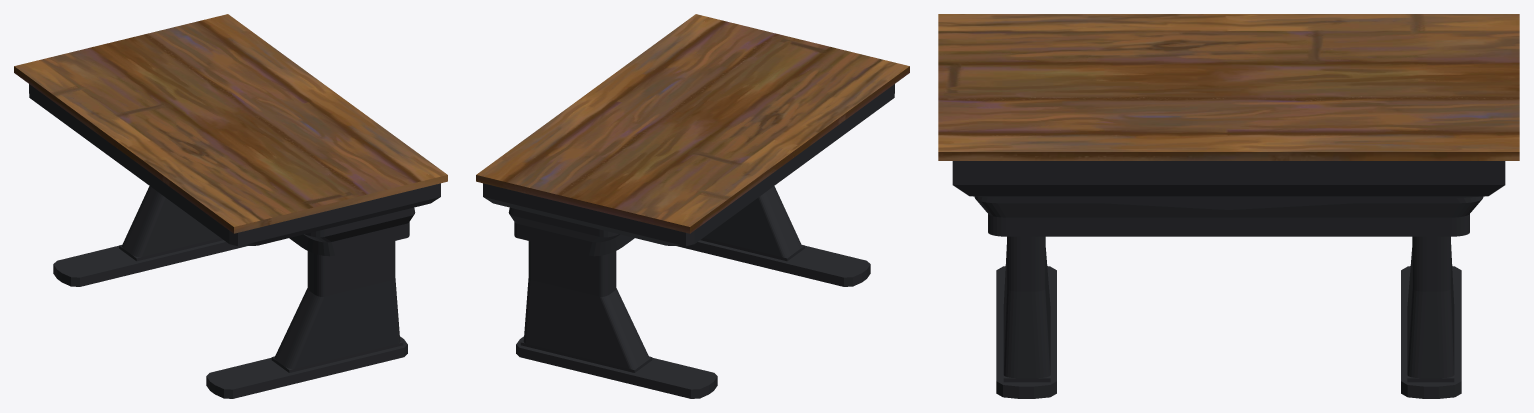
Rendered from Desk_Rebuild 1.fbx.
3 renders of one model, left to right at view 1: azimuth 30°, elevation 25°; view 2: azimuth 150°, elevation 25°; view 3: azimuth 270°, elevation 25°, orthographic. The views are drawn at different scales.
Parts seen in each view (by area): view 1: Cube; view 2: Cube; view 3: Cube.
Boxes of the visible parts, left/top/right/bottom form: Cube: left=14, top=14, right=447, bottom=398; Cube: left=476, top=14, right=909, bottom=398; Cube: left=938, top=14, right=1519, bottom=398.
Bounding box in the file's own units: 53.6 × 46.22 × 95.39.
Materials: 2 (2 with a texture image).
